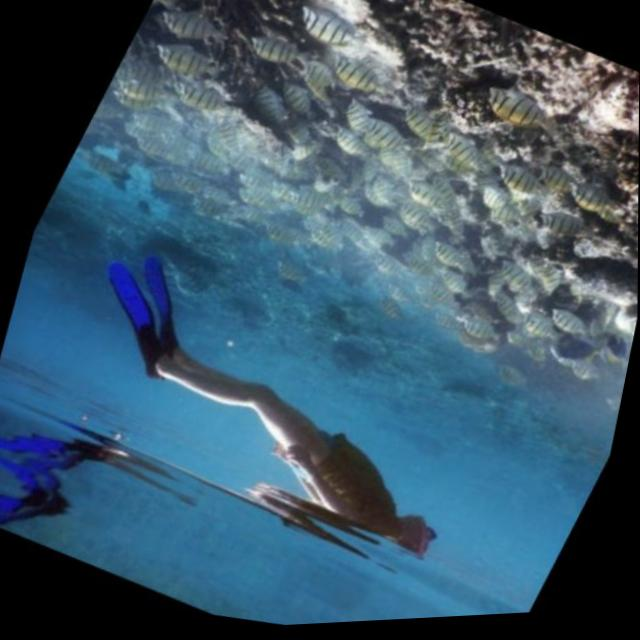Dead Coral: (133, 0, 311, 67)
